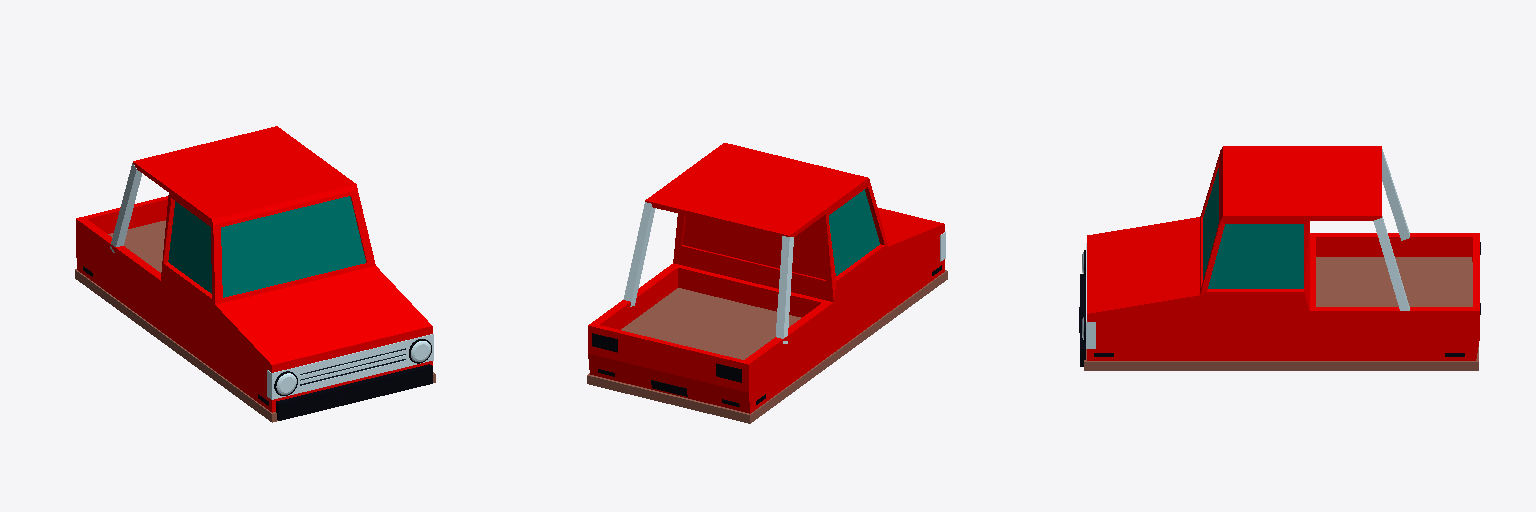
The model's file is car_frame.obj.
3 views of the same model, side by side, from view 1: azimuth 30°, elevation 25°; view 2: azimuth 150°, elevation 25°; view 3: azimuth 270°, elevation 25° (orthographic).
Parts seen in each view (by area): view 1: Cube_1.008; view 2: Cube_1.008; view 3: Cube_1.008.
Part boxes in pixels (bbox=[...]): Cube_1.008: bbox=[75, 126, 435, 422]; Cube_1.008: bbox=[587, 143, 947, 423]; Cube_1.008: bbox=[1079, 146, 1480, 370].
Size of the model in its own units: 7.63 by 6.69 by 16.19.